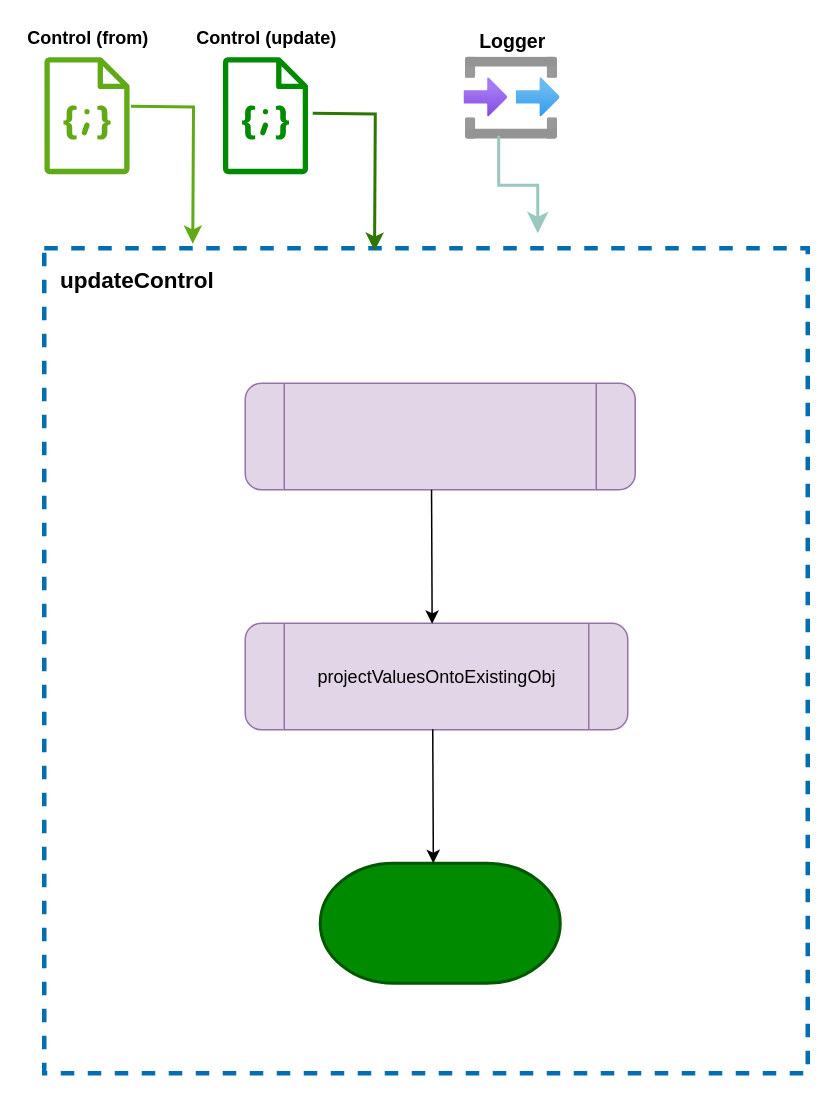
Some shapes in this 836 by 1101 pixel diagram are drawn without their labels. Each missing label, with the centre of its shape:
getExistingDescribeFromControl: the point at 439,436
Return Object Updated Control: the point at 439,922
